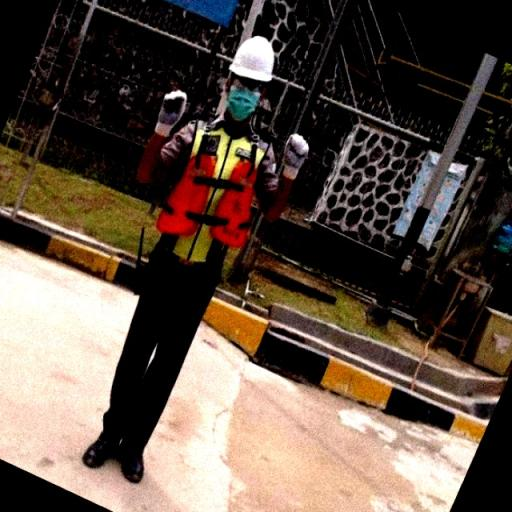Person: (63, 26, 350, 493)
boots: (118, 439, 157, 497), (80, 423, 118, 475)
gloves: (283, 132, 314, 184), (156, 90, 188, 138)
helmet: (229, 35, 283, 84)
vest: (168, 125, 274, 277)
